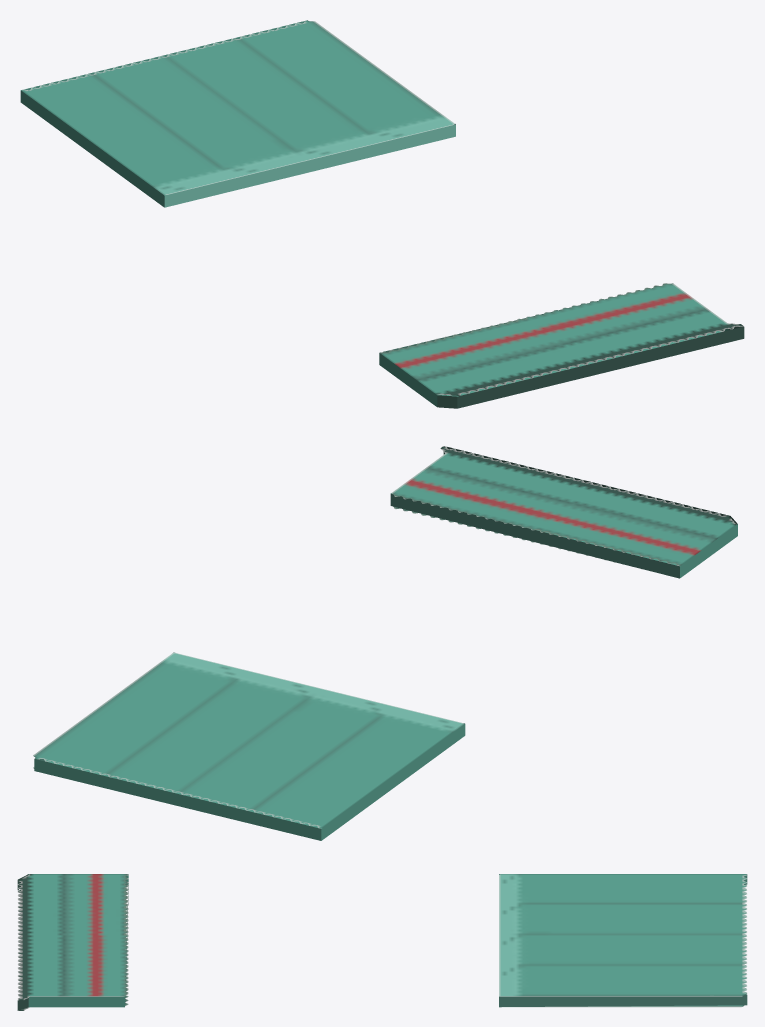
The model's file is pz_native_location_restaurant_diner_01_61_frame.obj.
3 renders of one model, top to bottom at view 1: azimuth 30°, elevation 25°; view 2: azimuth 150°, elevation 25°; view 3: azimuth 270°, elevation 25°, orthographic. The views are drawn at different scales.
Parts seen in each view (by area): view 1: pz_native_location_restaurant_diner_01_61_frame; view 2: pz_native_location_restaurant_diner_01_61_frame; view 3: pz_native_location_restaurant_diner_01_61_frame.
Part boxes in pixels (x1,y1,x2,y2): pz_native_location_restaurant_diner_01_61_frame: [20, 20, 744, 408]; pz_native_location_restaurant_diner_01_61_frame: [33, 446, 737, 840]; pz_native_location_restaurant_diner_01_61_frame: [17, 874, 747, 1010].
Bounding box in the file's own units: 1.06 × 0.04 × 2.54.
1 material, 1 textured.
